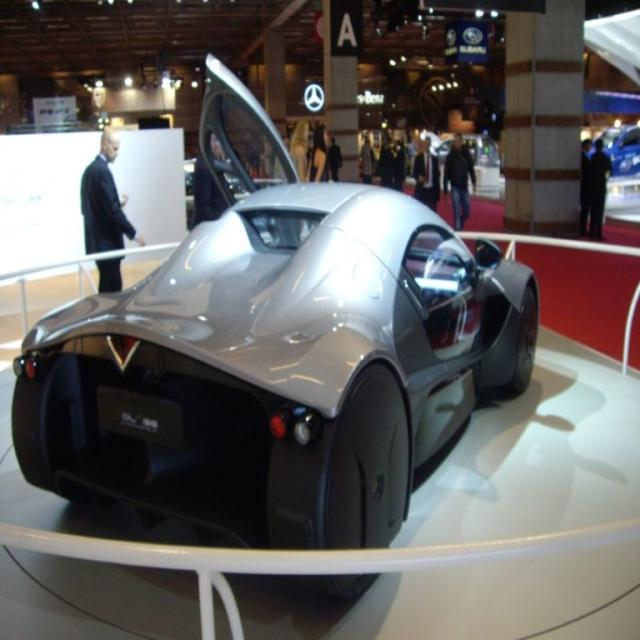car: (0, 51, 542, 630)
